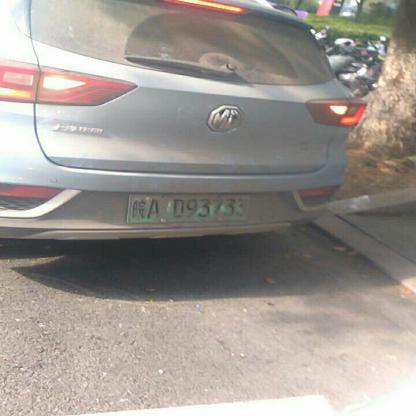lp: (128, 194, 251, 223)
